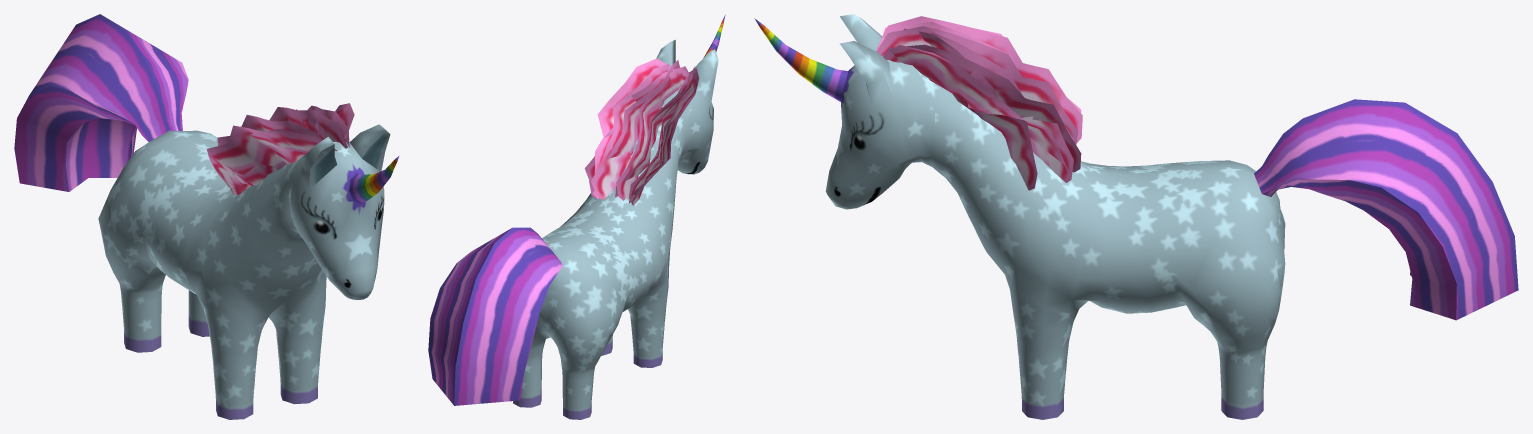
File: unicorn_model.fbx
3 renders of one model, left to right at view 1: azimuth 30°, elevation 25°; view 2: azimuth 150°, elevation 25°; view 3: azimuth 270°, elevation 25°, orthographic. The views are drawn at different scales.
Visible parts, largest first — view 1: uni, polySurface8, polySurface9, polySurface5, polySurface1, polySurface2; view 2: uni, polySurface2, polySurface1, polySurface6, polySurface3, polySurface7, polySurface8, polySurface5, polySurface4, polySurface9; view 3: uni, polySurface3, polySurface1, polySurface2, polySurface4, polySurface5, polySurface6.
Boxes of the visible parts, x1,y1,x2,y2 form: uni: [14, 14, 399, 419]; polySurface8: [207, 125, 337, 188]; polySurface9: [232, 129, 318, 185]; polySurface5: [217, 115, 322, 195]; polySurface1: [269, 107, 347, 148]; polySurface2: [307, 105, 349, 147]; uni: [428, 15, 725, 419]; polySurface2: [591, 64, 670, 200]; polySurface1: [616, 60, 679, 200]; polySurface6: [589, 66, 688, 197]; polySurface3: [593, 58, 670, 198]; polySurface7: [615, 70, 692, 197]; polySurface8: [631, 68, 699, 204]; polySurface5: [628, 66, 694, 205]; polySurface4: [584, 67, 688, 180]; polySurface9: [629, 72, 696, 203]; uni: [754, 14, 1518, 419]; polySurface3: [889, 45, 1070, 175]; polySurface1: [876, 26, 1077, 144]; polySurface2: [883, 44, 1081, 172]; polySurface4: [903, 28, 1037, 190]; polySurface5: [876, 16, 1082, 142]; polySurface6: [892, 31, 1073, 182].
Bounding box in the file's own units: 0.4789 × 1.08 × 1.98.
2 materials, 2 textured.
